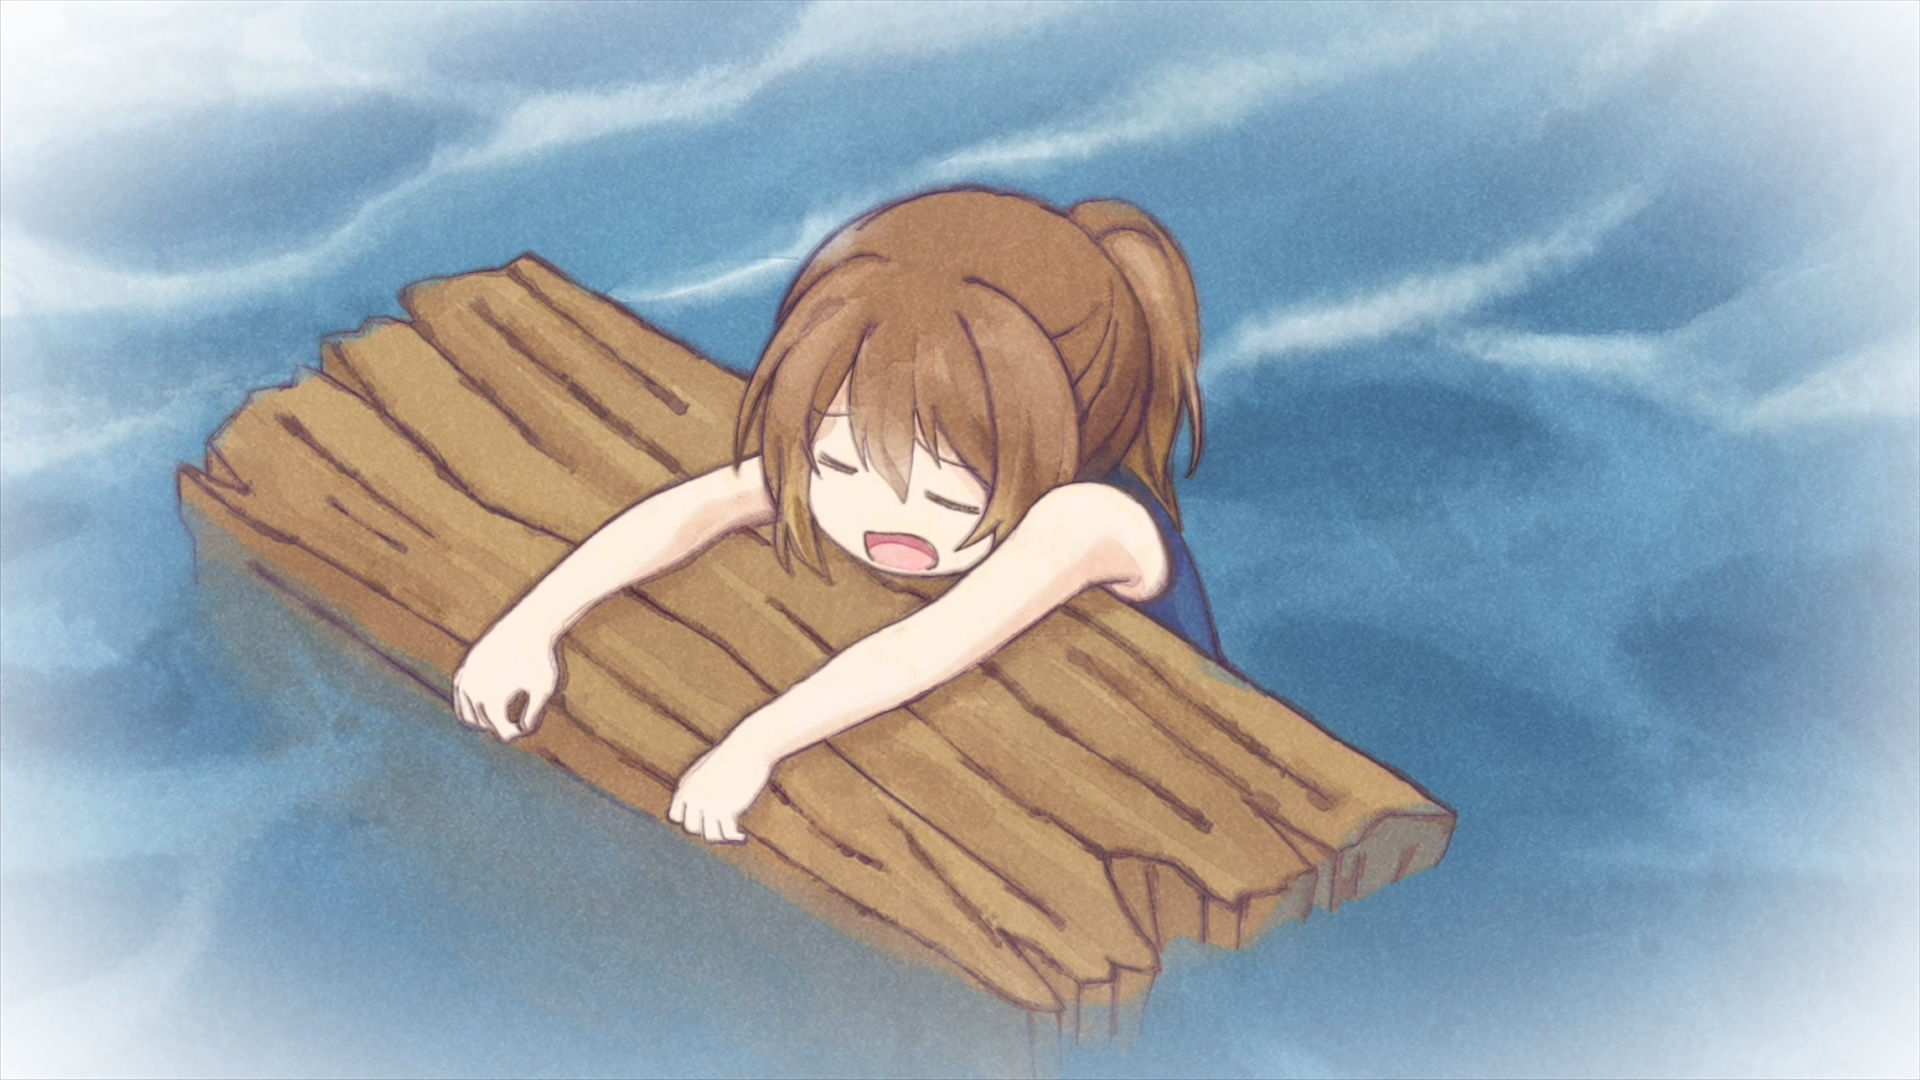其他: (450, 185, 1226, 847)
